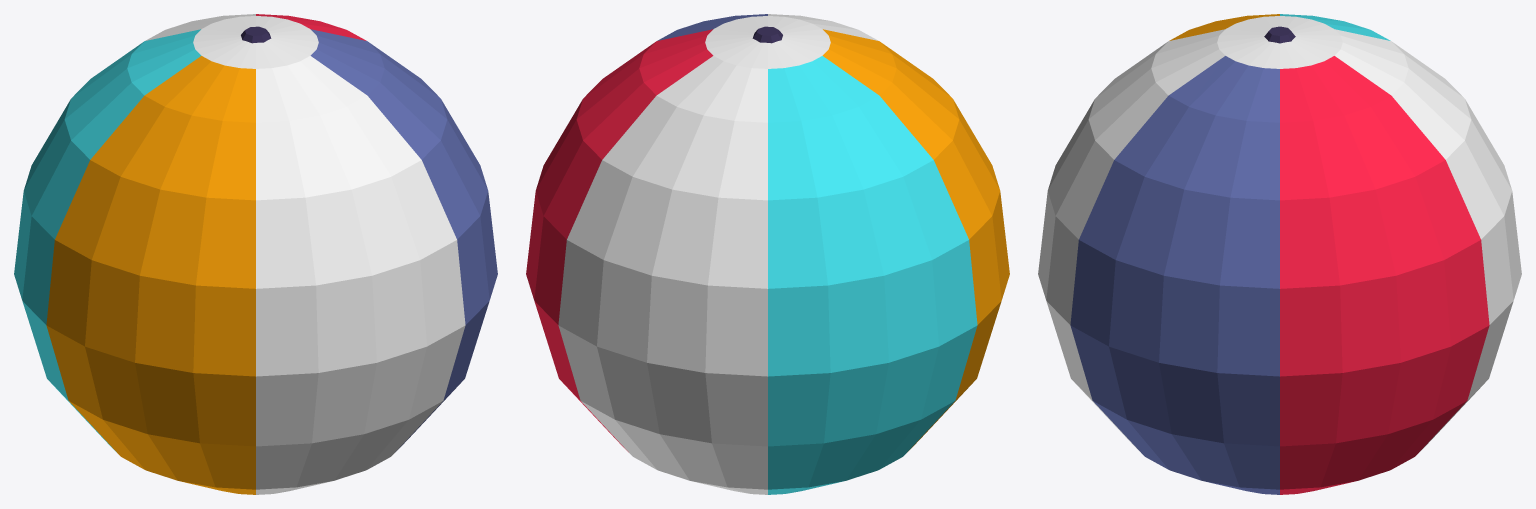
File: RallyBall.obj
The picture shows the model from 3 angles, left to right: view 1: azimuth 30°, elevation 25°; view 2: azimuth 150°, elevation 25°; view 3: azimuth 270°, elevation 25°; orthographic projection.
Parts seen in each view (by area): view 1: RallyBall; view 2: RallyBall; view 3: RallyBall.
Boxes of the visible parts, x1,y1,x2,y2 form: RallyBall: (14,14,497,494); RallyBall: (526,14,1009,494); RallyBall: (1038,14,1521,494).
Bounding box in the file's own units: 1.1 × 1.11 × 1.1.
1 material, 1 textured.
